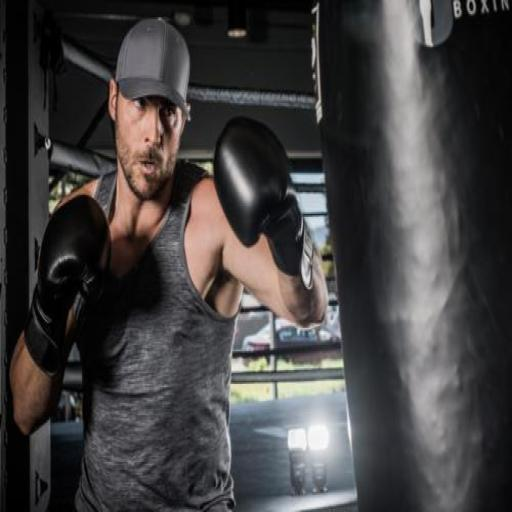boxing: (8, 14, 329, 510)
